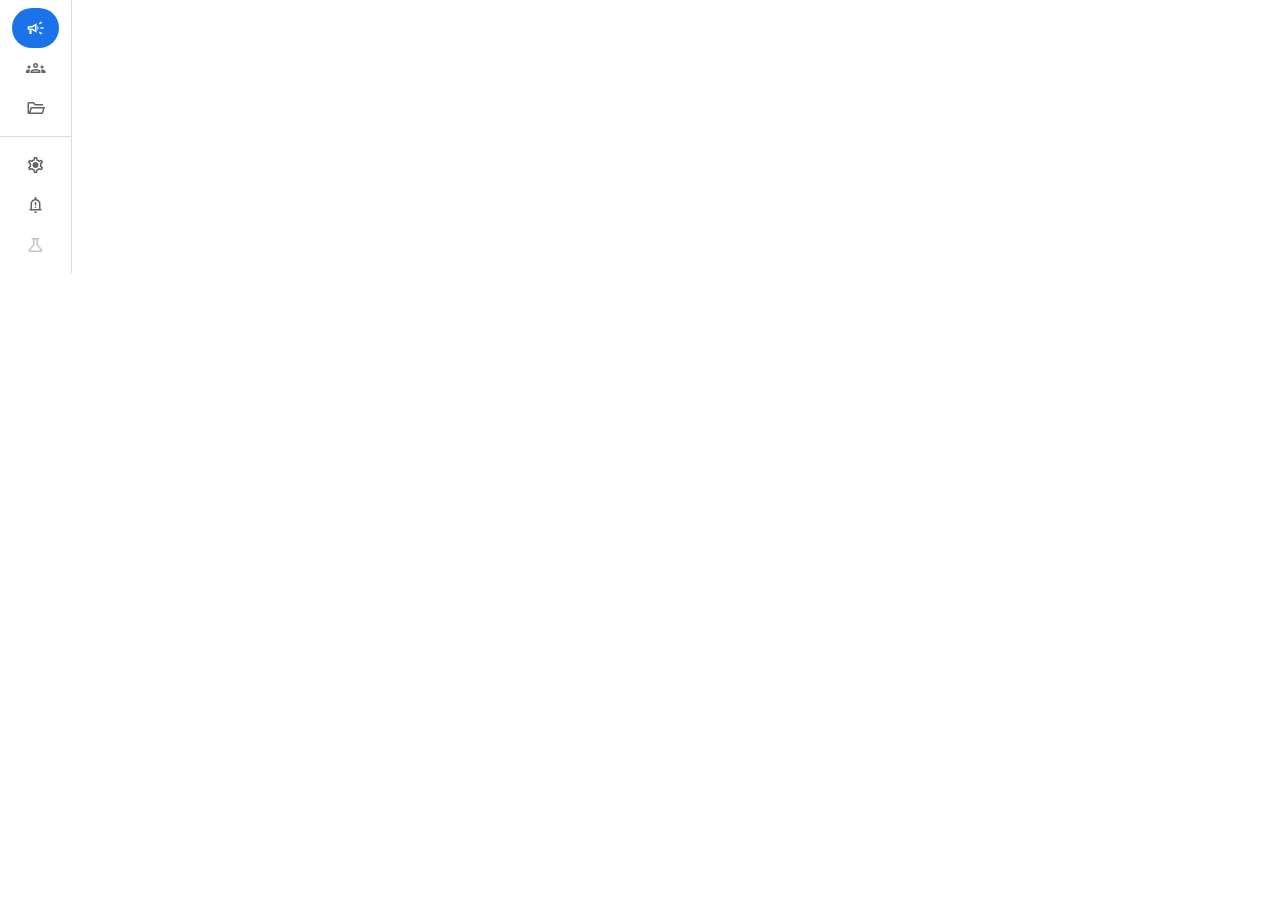
Test: DvNav › rail mode opens a flyout menu with the children of a group
Click the button named "Audiences" at [36, 68], box [26,56,46,80]
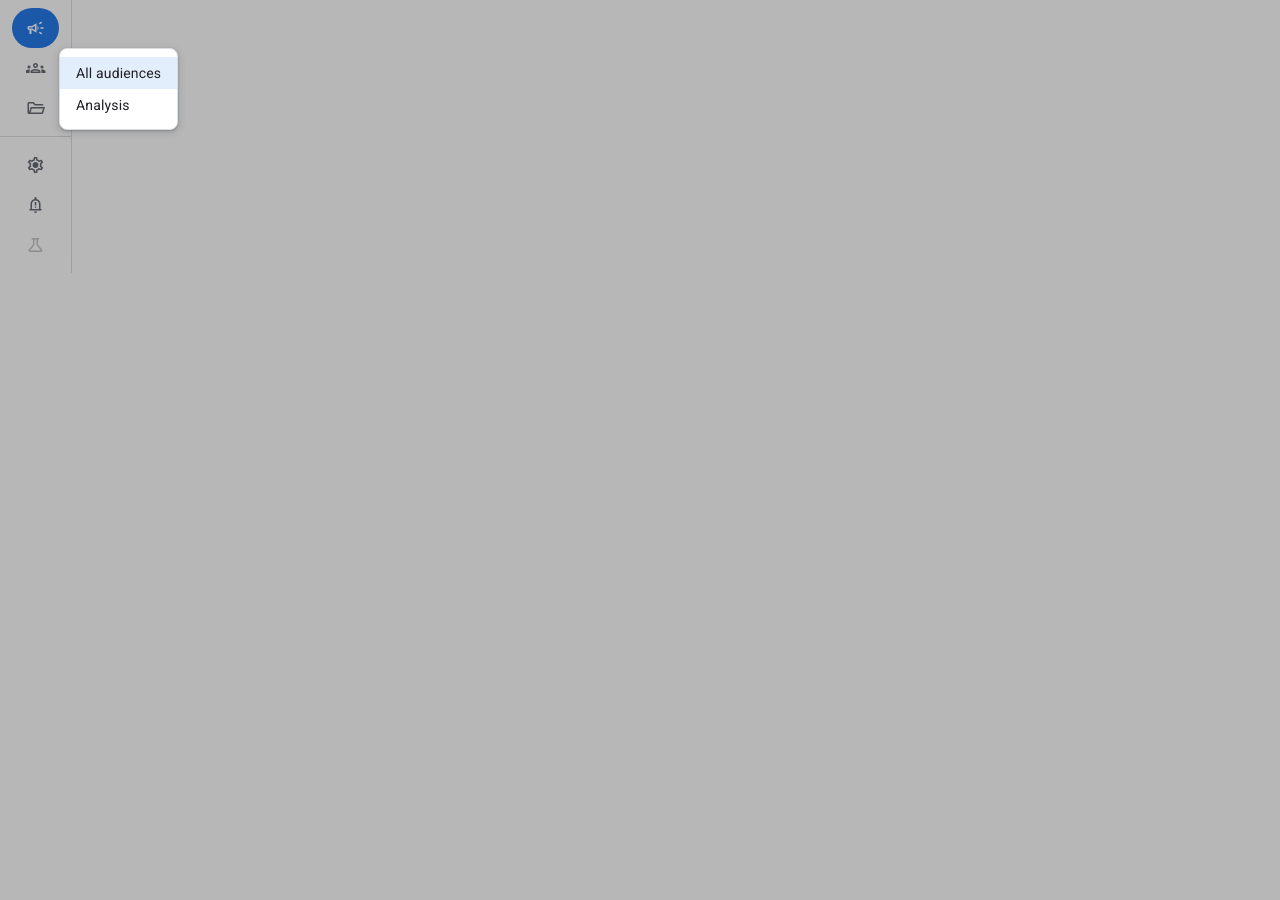
Now the menu item "Analysis" is shown, box [76,97,130,113]
